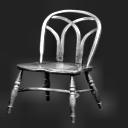chair_success: (5, 6, 111, 125)
